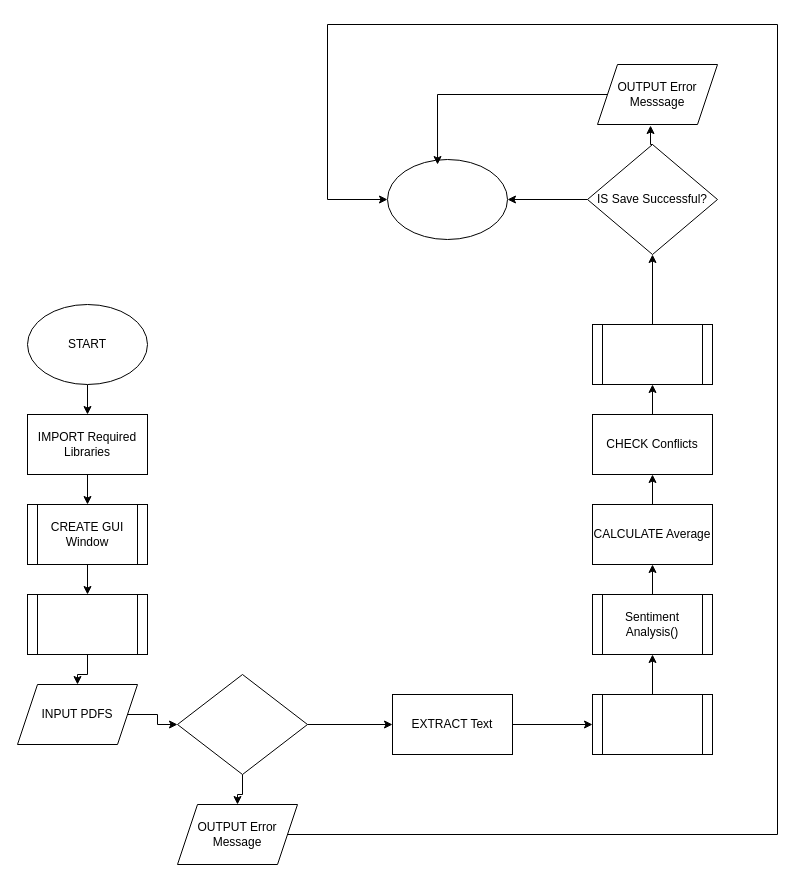
Image size: 803x882. Some labels were removed from this diagram. The box of each missing label's shape, as (x1, y1, x2, y2) in pixels:
CREATE Upload Button: (36, 594, 138, 654)
END: (386, 158, 508, 240)
IS File Selection Success?: (176, 674, 308, 774)
SAVE to Excel: (602, 324, 702, 384)
Tokenize text: (602, 694, 702, 754)
